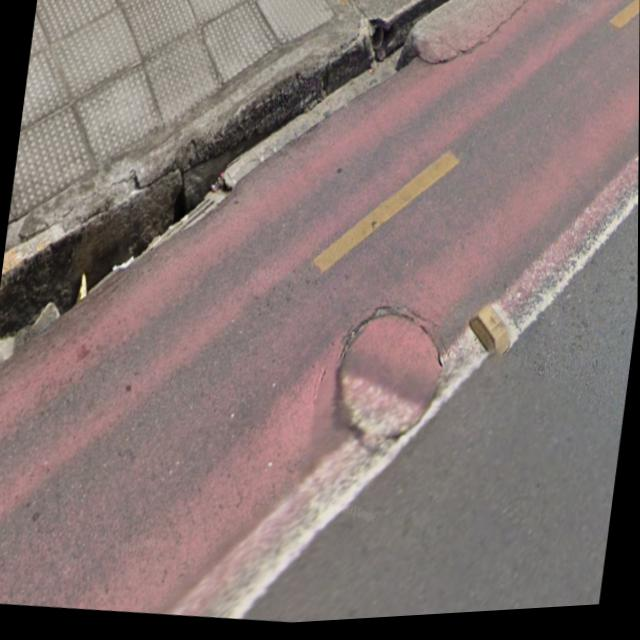Bueiro: (314, 287, 459, 470)
